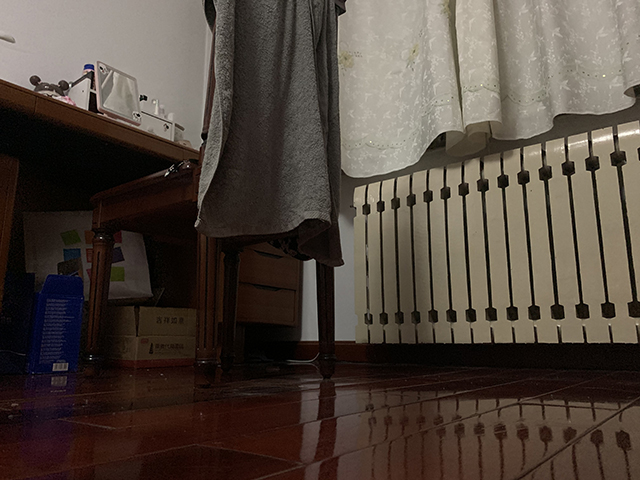curtain: (343, 2, 640, 180)
stool: (80, 1, 346, 382)
table: (1, 78, 304, 369)
wire: (285, 349, 320, 364)
